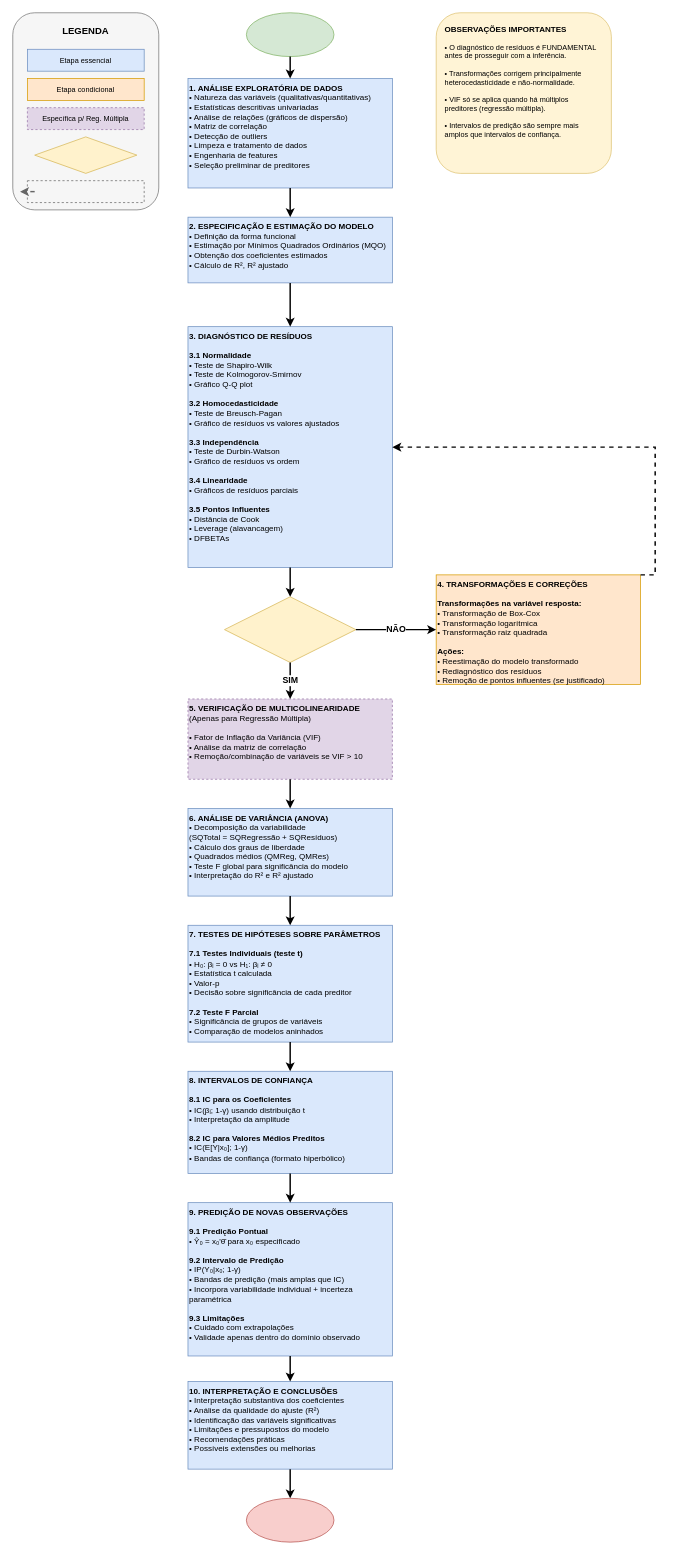
The diagram is 675 pixels wide and 1555 high, and some of its shapes have lost their labels. The shapes that lost their labels are listed below. From the top down, each one's centre as x and y in pixels, then its label:
At pixel 290 34: "INÍCIO".
At pixel 85 154: "Ponto de decisão".
At pixel 85 191: "Loop de retorno".
At pixel 290 629: "Pressupostos satisfeitos?".
At pixel 290 1520: "FIM".
